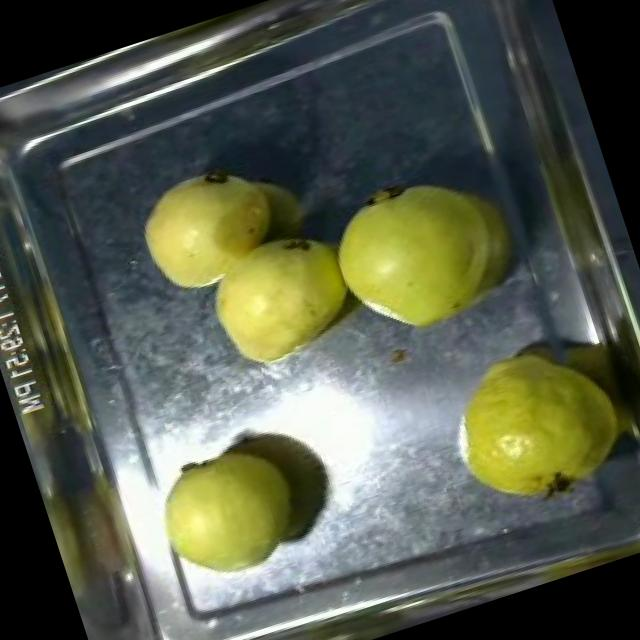Fruit: (311, 152, 538, 362), (426, 319, 640, 531), (136, 424, 322, 605), (189, 216, 371, 386), (123, 151, 294, 309)
